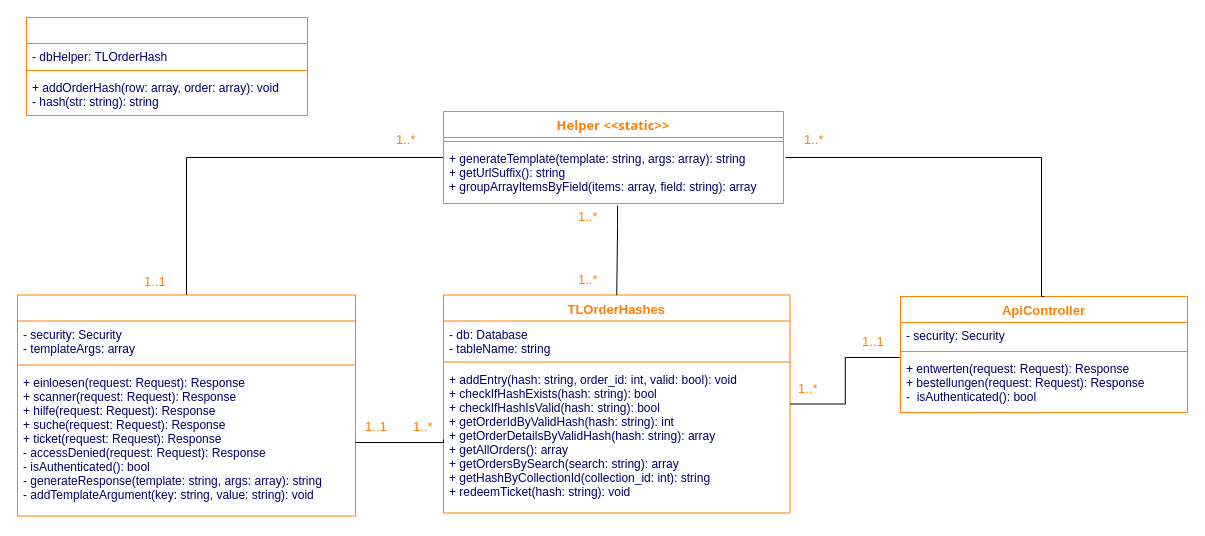
Some shapes in this 1205 by 536 pixel diagram are drawn without their labels. Here are the shapes that lost their labels. From the top down, the box of each, then its label:
(26, 16, 308, 116): PostCheckout
(16, 294, 356, 516): TicketRoutes
